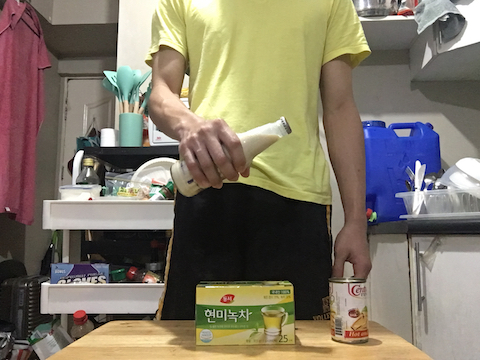bottle: (167, 115, 296, 203)
box: (191, 276, 302, 351)
can: (329, 275, 372, 344)
grab: (178, 116, 251, 190)
